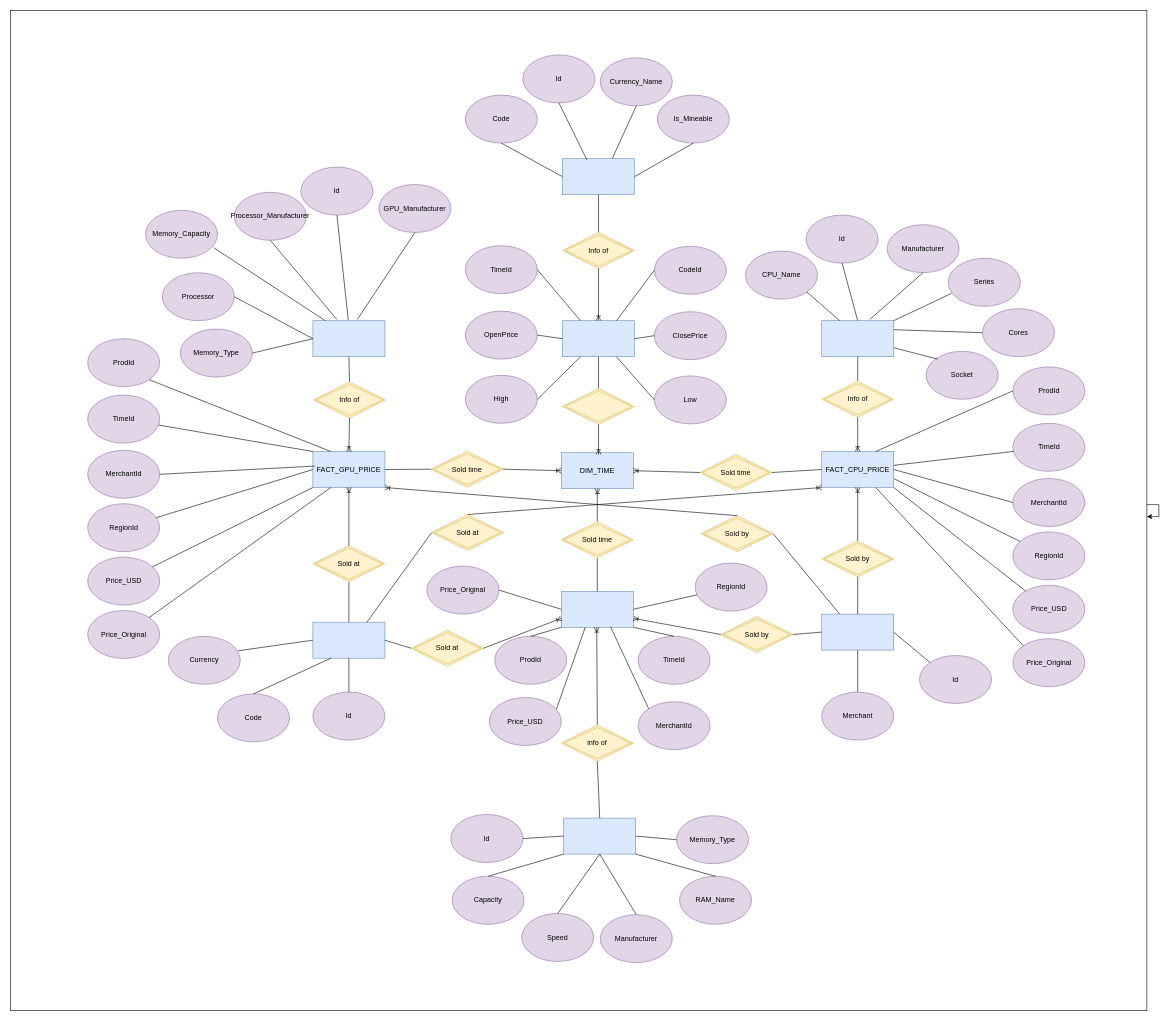
The diagram is 1174 pixels wide and 1021 high, and some of its shapes have lost their labels. The centre of each missing label's shape, as x and y in pixels:
"DIM_CPU_PROD" goes at pixel 857 338.
"DIM_CRYPTO_DATA" goes at pixel 598 176.
"DIM_GPU_PROD" goes at pixel 348 338.
"DIM_MERCHANT" goes at pixel 857 632.
"DIM_RAM_PROD" goes at pixel 599 836.
"DIM_REGION" goes at pixel 348 640.
"FACT_CRYPTO_RATE" goes at pixel 598 338.
"FACT_RAM_PRICE" goes at pixel 597 609.
"Maket time" goes at pixel 598 406.
